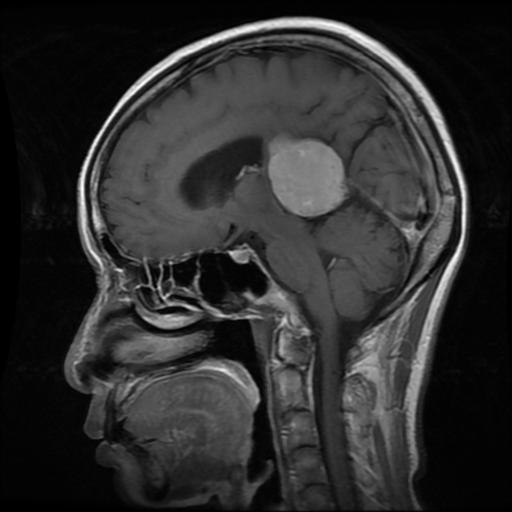Menigiomia_tumour: (264, 129, 349, 217)
